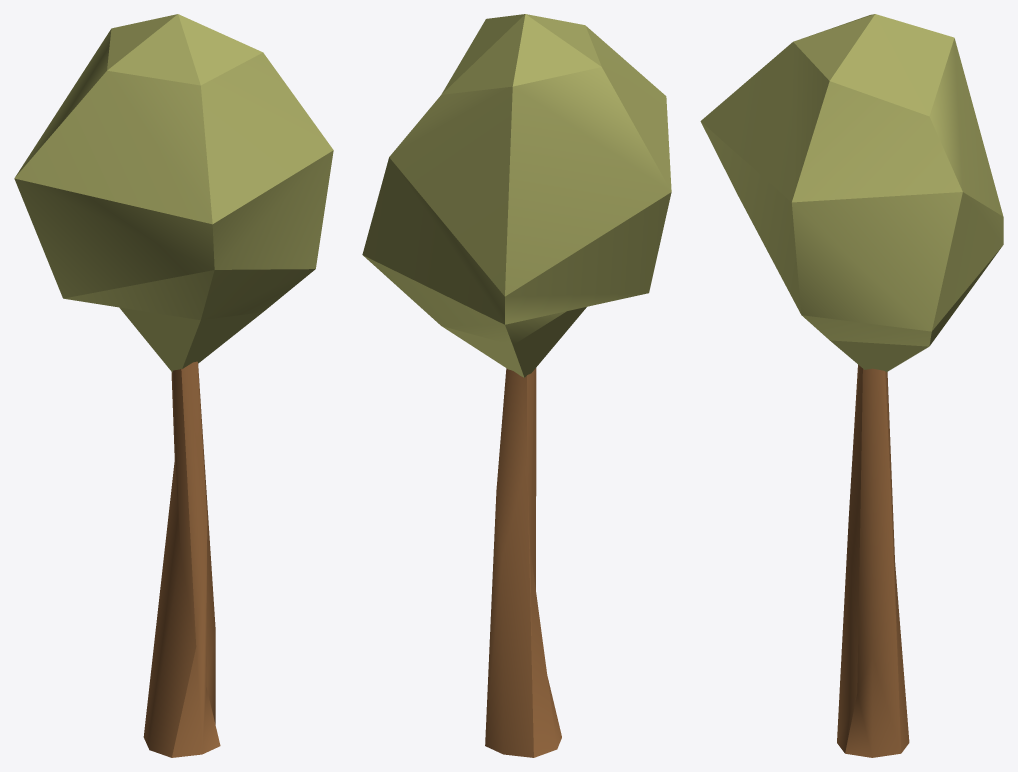
File: TreeSmall.fbx
3 views of the same model, side by side, from view 1: azimuth 30°, elevation 25°; view 2: azimuth 150°, elevation 25°; view 3: azimuth 270°, elevation 25° (orthographic).
Parts seen in each view (by area): view 1: TreeYellow4; view 2: TreeYellow4; view 3: TreeYellow4.
Part boxes in pixels (x1=…): TreeYellow4: x1=14, y1=14, x2=333, y2=757; TreeYellow4: x1=362, y1=14, x2=671, y2=757; TreeYellow4: x1=700, y1=14, x2=1003, y2=757.
Size of the model in its own units: 8.54 by 20.52 by 7.76.
